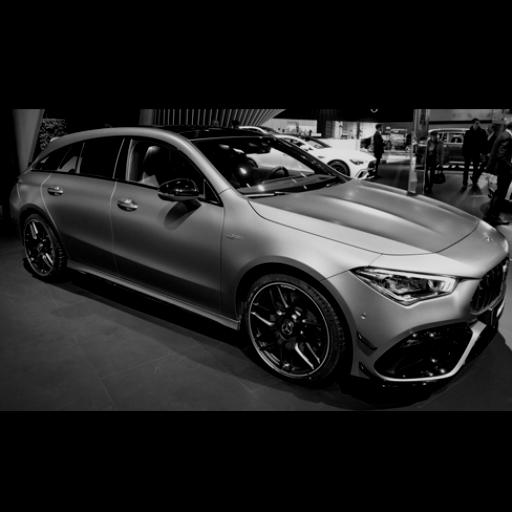car: (276, 133, 376, 179), (436, 128, 465, 165), (414, 138, 426, 163), (239, 125, 279, 132), (488, 173, 495, 196)
hatchback: (10, 126, 508, 386)
